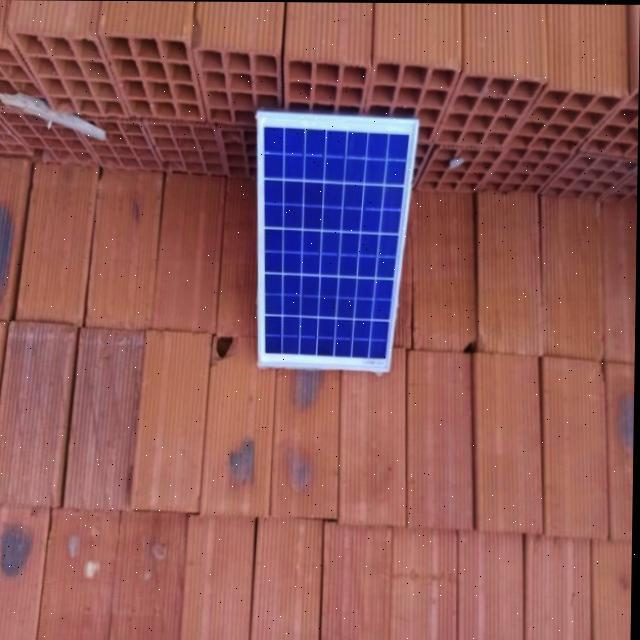Normal Solar Panel: (255, 113, 418, 370)
